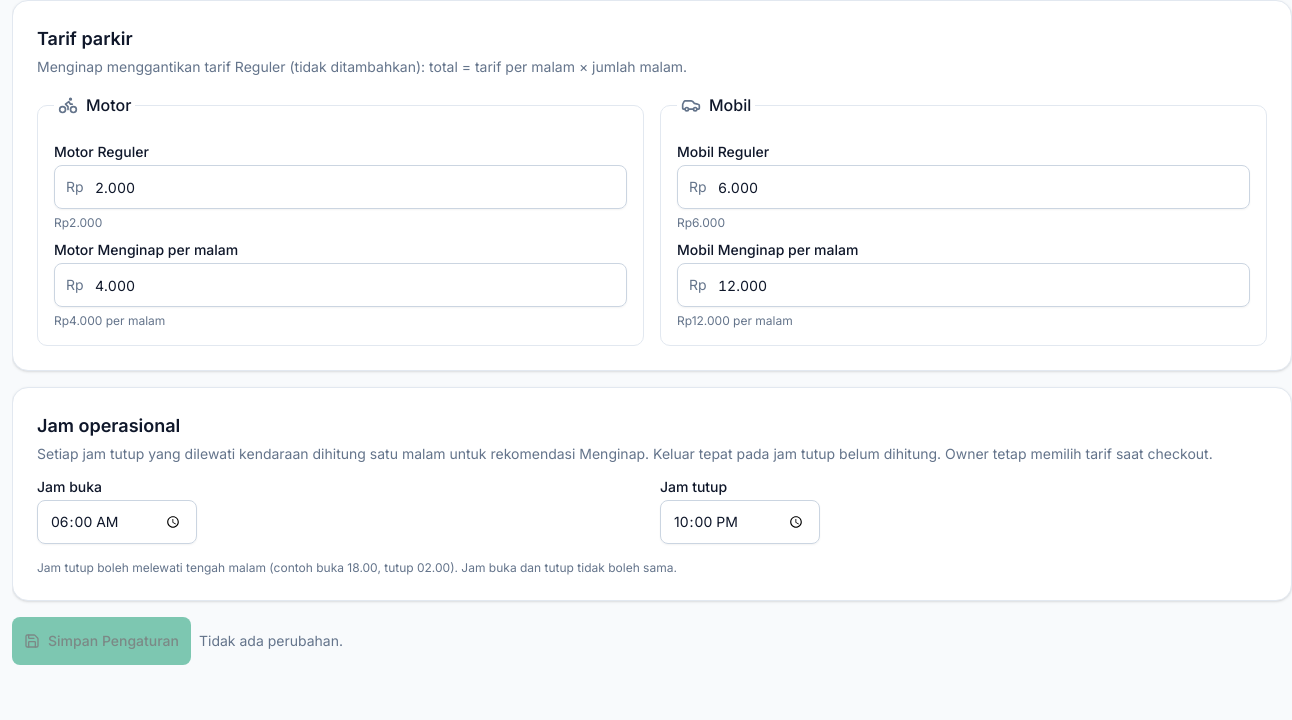
Test: rendering › configured location: no default banner/badges; Save waits for a change
Expected: the button "Simpan Pengaturan" is disabled, [12,617,191,665]
Expected: the text "Tidak ada perubahan." is shown, [199,631,343,651]
Replace the text in the field labelled "Motor Reguler" with "2.500": [340, 187] box [54,165,627,209]
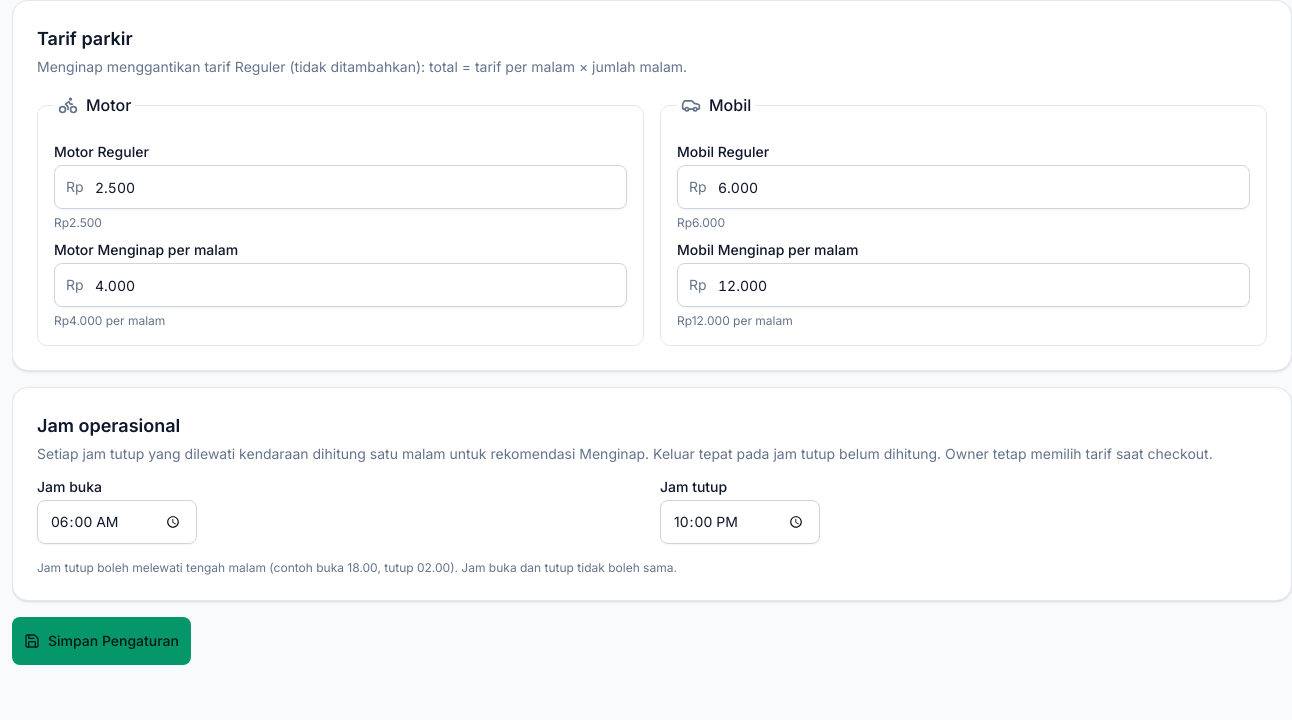
Expected: the button "Simpan Pengaturan" is enabled, [12,617,191,665]
Expected: the text "Rp2.500" is shown, [54,215,102,230]
